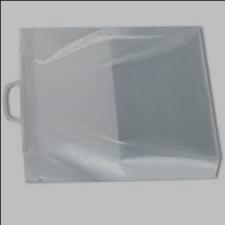Plastic: (1, 19, 221, 191)
